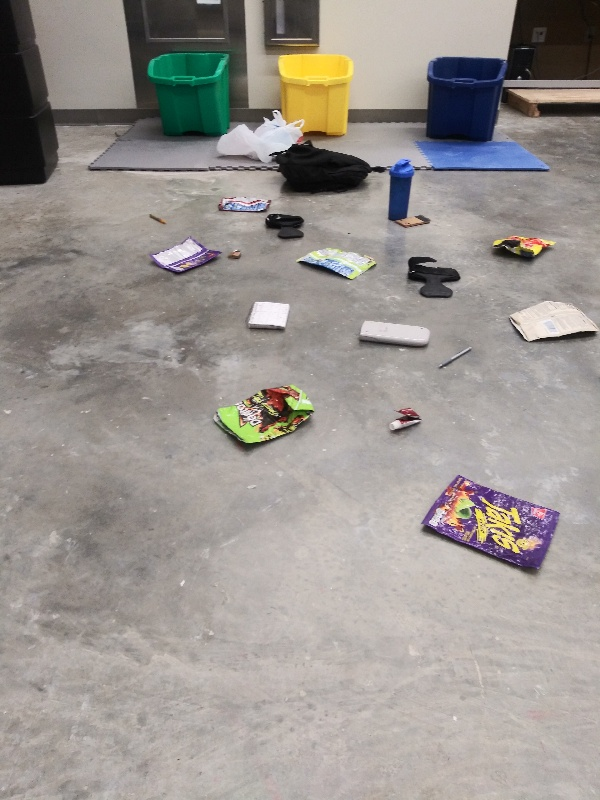bag: (413, 473, 564, 580), (206, 380, 322, 454), (501, 296, 600, 345), (144, 233, 226, 277), (290, 245, 380, 280), (482, 227, 561, 263), (214, 193, 280, 216)
